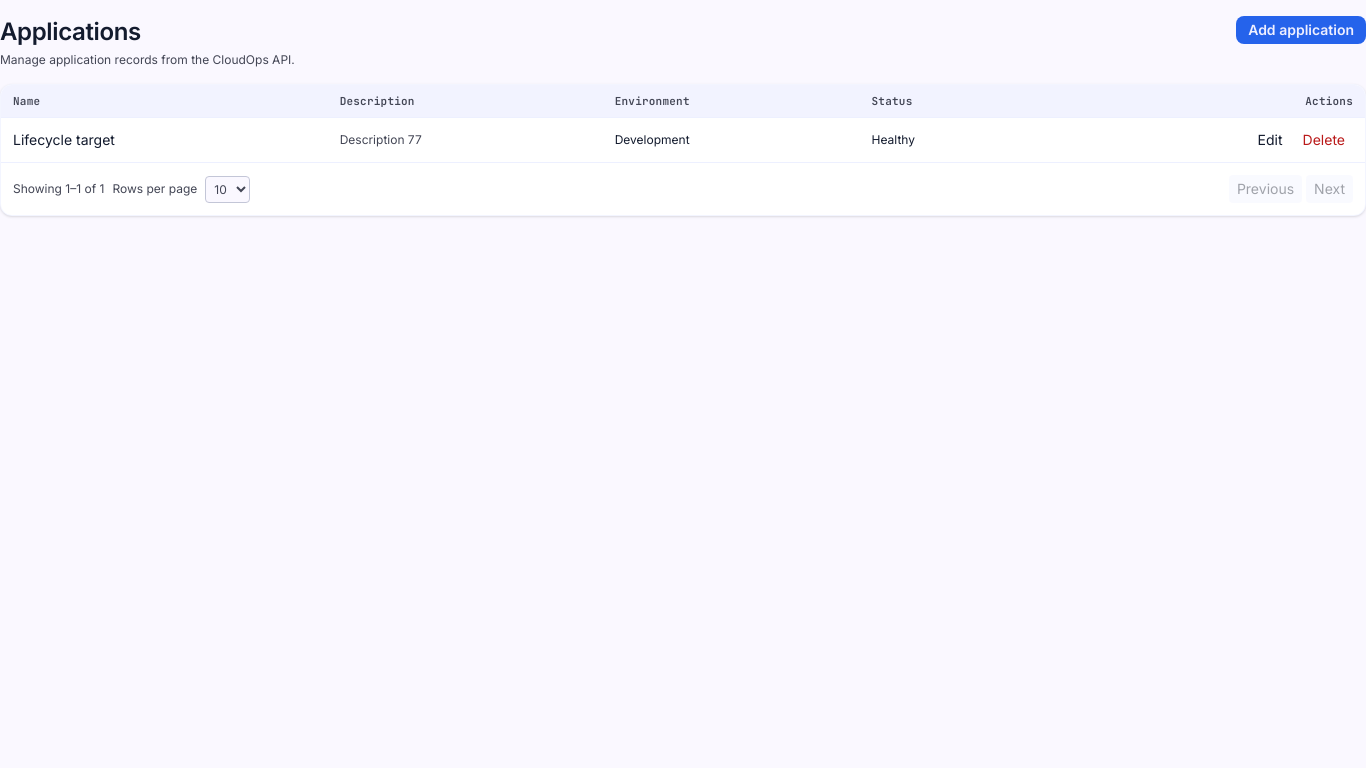
Test: application create and delete outcomes › deletes the application after confirmation
This screenshot has width=1366, height=768.
Expected: the row that starts with "Lifecycle target" is shown, [1, 118, 1365, 162]
Click the button with aria-label "Delete Lifecycle target": coordinates (1324, 140) [1295, 126, 1353, 154]
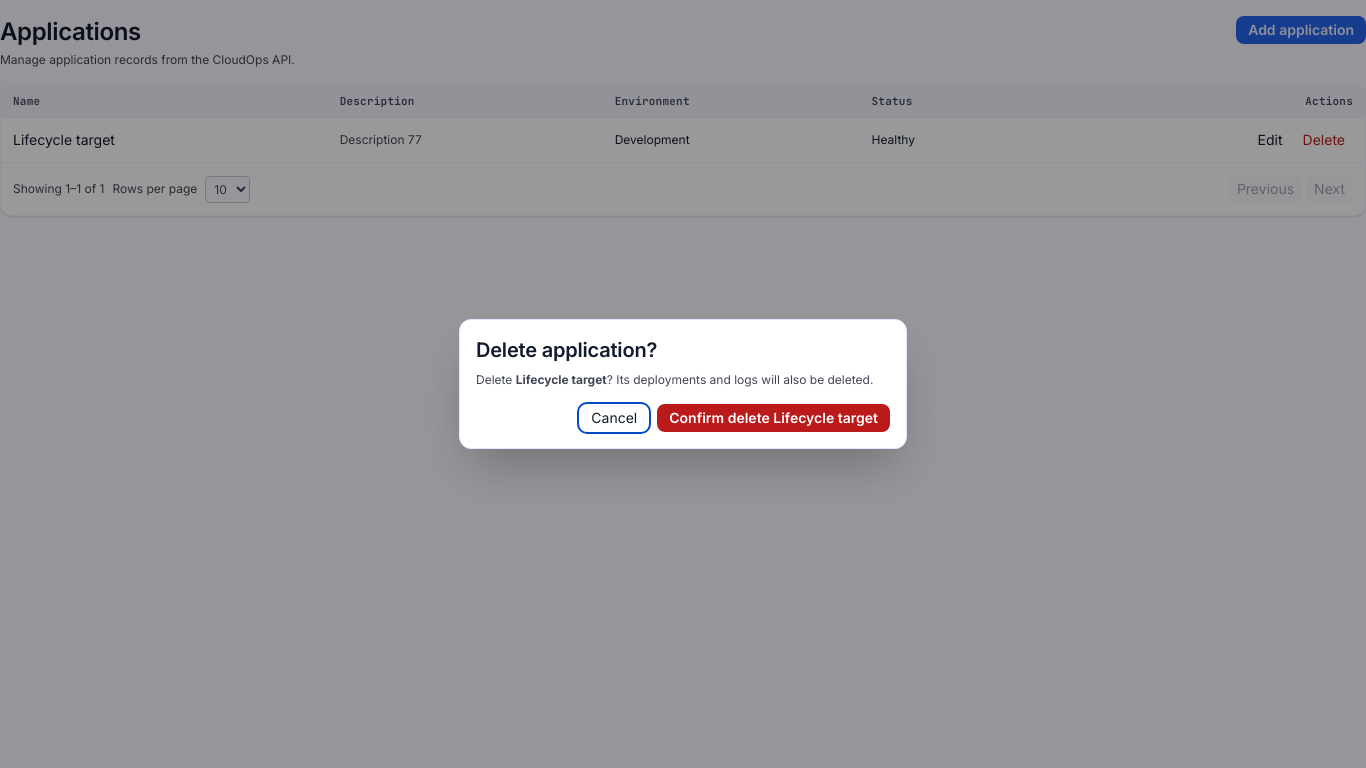
Click the button "Confirm delete Lifecycle target": coordinates (774, 418) [657, 404, 890, 432]
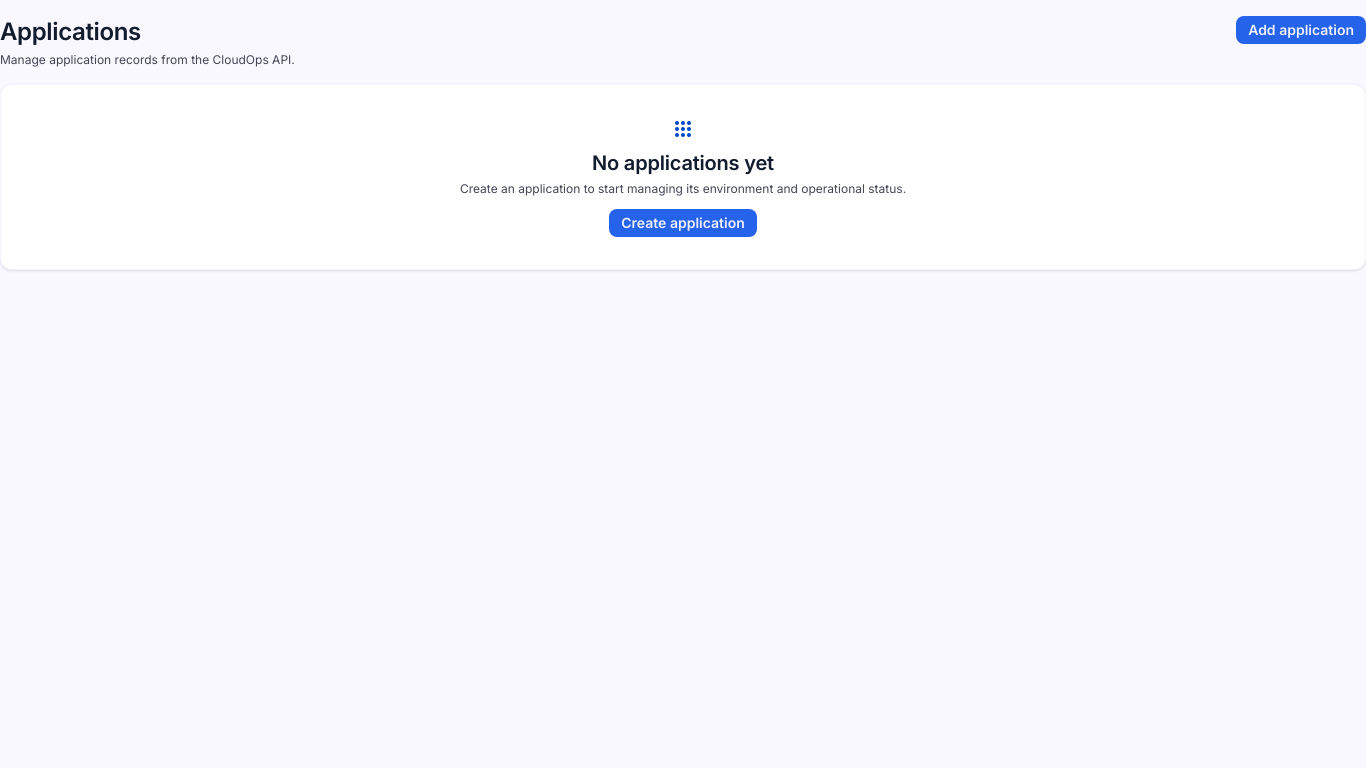
Now the heading "No applications yet" is shown, box [592, 149, 774, 177]
